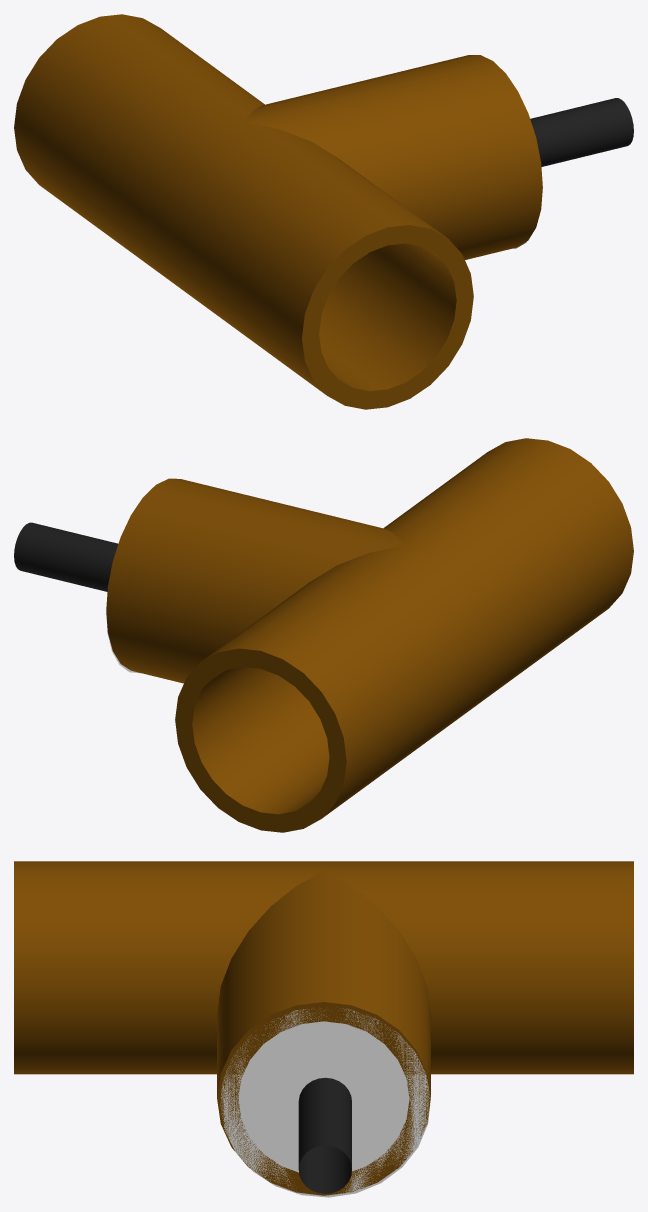
Rendered from Valve_pipe_brass.dae.
The picture shows the model from 3 angles, top to bottom: view 1: azimuth 30°, elevation 25°; view 2: azimuth 150°, elevation 25°; view 3: azimuth 270°, elevation 25°; orthographic projection. The views are drawn at different scales.
Parts seen in each view (by area): view 1: pipe (×2), axis; view 2: pipe (×2), axis; view 3: pipe (×2), group_1 (×2), axis.
Boxes of the visible parts, x1,y1,x2,y2 form: pipe (×2): (14, 14, 542, 409); axis: (530, 98, 633, 166); pipe (×2): (106, 438, 633, 832); axis: (14, 522, 118, 591); pipe (×2): (14, 861, 633, 1195); group_1 (×2): (220, 1008, 430, 1197); axis: (298, 1077, 351, 1193).
Bounding box in the file's own units: 4.25 × 4.57 × 1.59.
